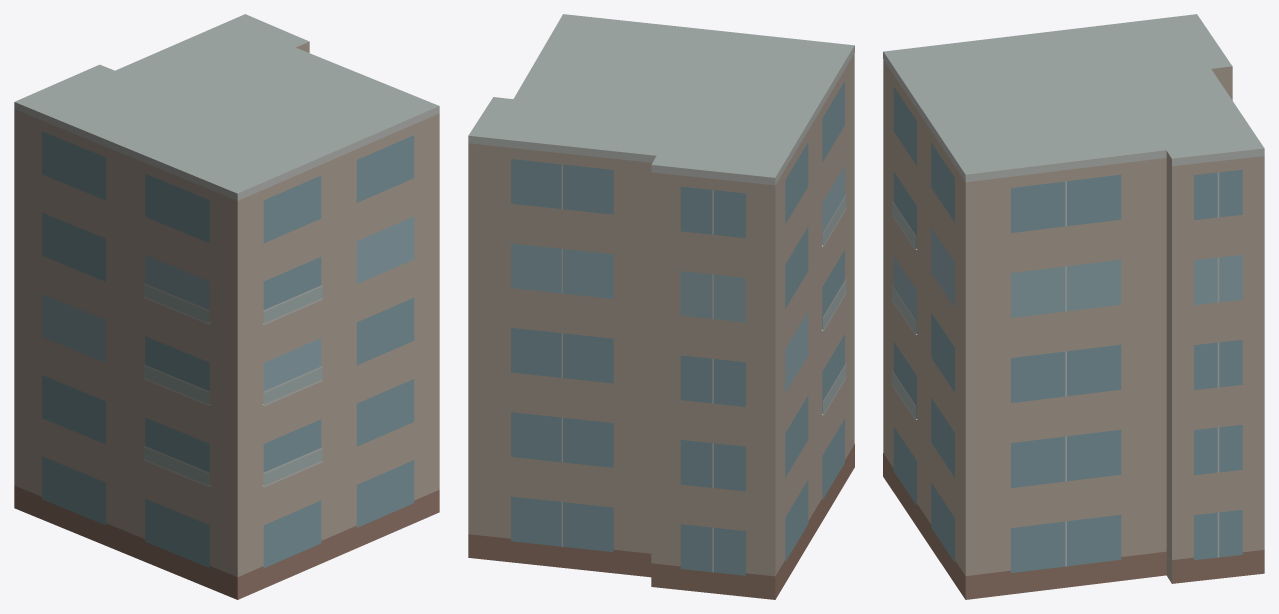
File: survey-upis-32628681.glb
3 views of the same model, side by side, from view 1: azimuth 30°, elevation 25°; view 2: azimuth 150°, elevation 25°; view 3: azimuth 270°, elevation 25° (orthographic). The views are drawn at different scales.
Parts seen in each view (by area): view 1: survey-upis-32628681.tmp; view 2: survey-upis-32628681.tmp; view 3: survey-upis-32628681.tmp.
Part boxes in pixels (x1,y1,x2,y2): survey-upis-32628681.tmp: (14,14,439,599); survey-upis-32628681.tmp: (468,14,854,599); survey-upis-32628681.tmp: (883,14,1264,599).
Size of the model in its own units: 11.12 by 13.7 by 11.15.
